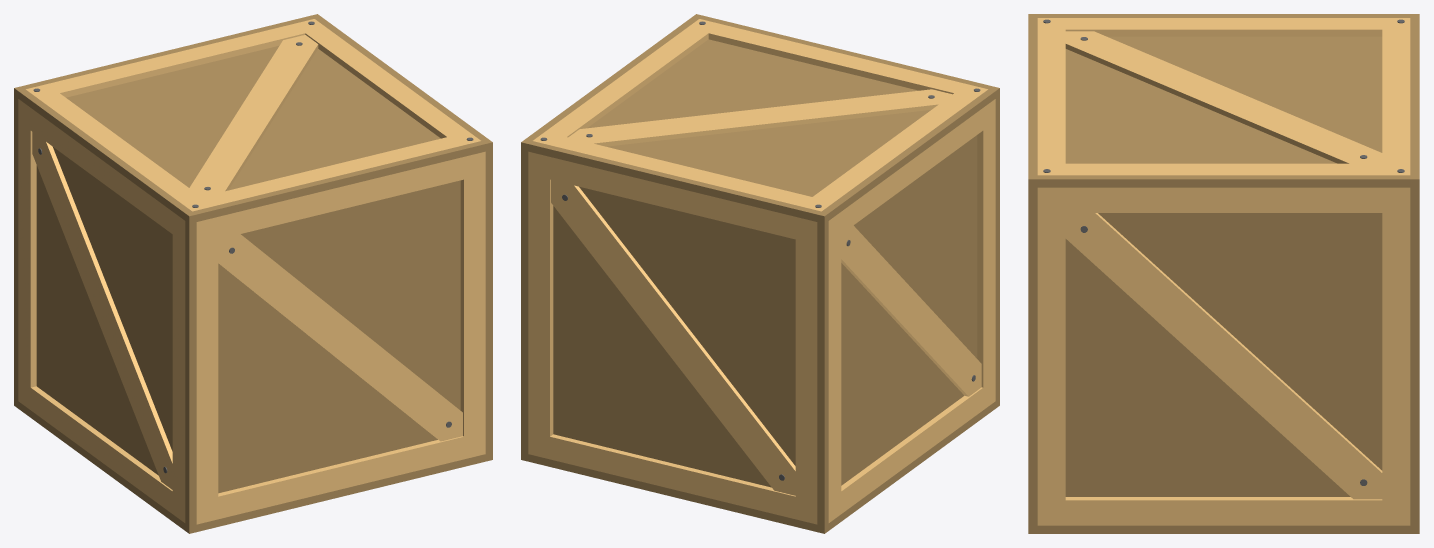
Rendered from Crate.fbx.
3 renders of one model, left to right at view 1: azimuth 30°, elevation 25°; view 2: azimuth 150°, elevation 25°; view 3: azimuth 270°, elevation 25°, orthographic. The views are drawn at different scales.
Visible parts, largest first — view 1: Cube; view 2: Cube; view 3: Cube.
Boxes of the visible parts, x1,y1,x2,y2 form: Cube: [14, 14, 492, 533]; Cube: [521, 14, 999, 533]; Cube: [1028, 14, 1419, 533].
Size of the model in its own units: 210 by 211 by 210.
